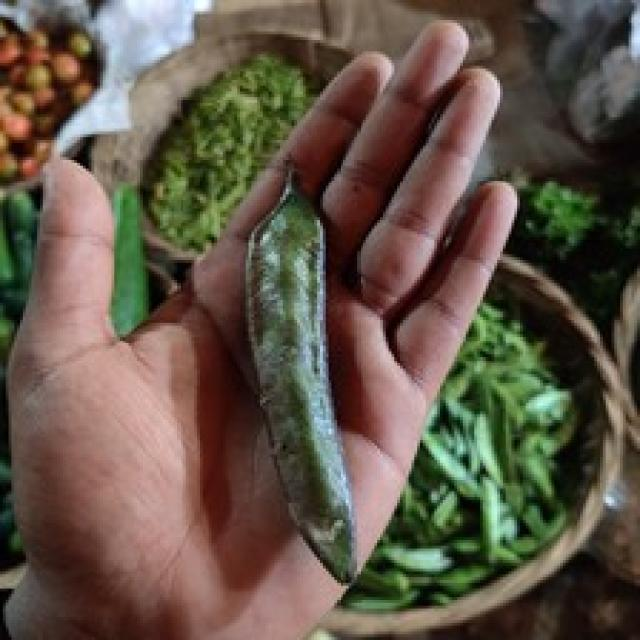Bean: (240, 165, 357, 586)
